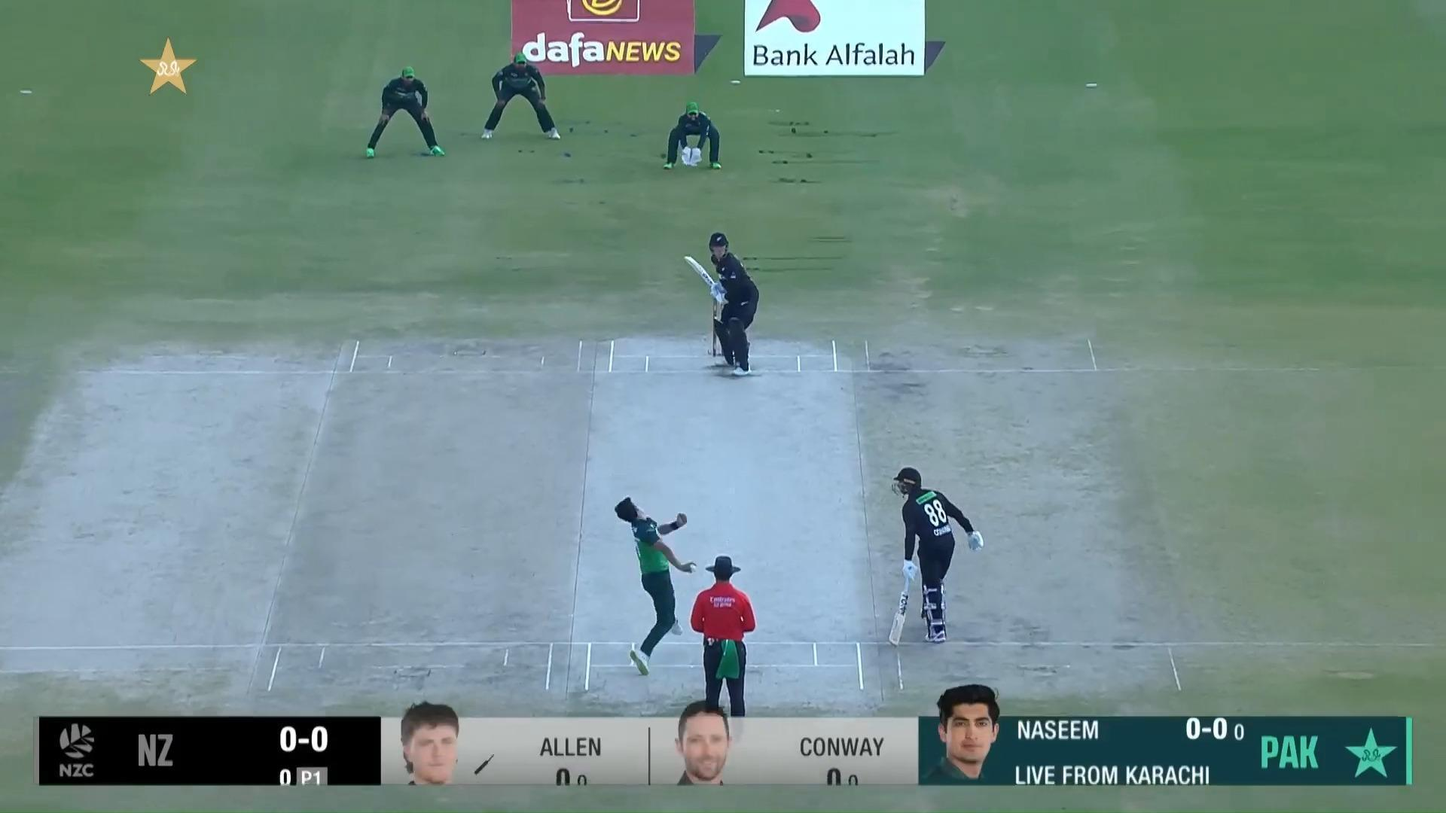BM 1: (683, 233, 760, 376)
BO: (613, 495, 698, 676)
